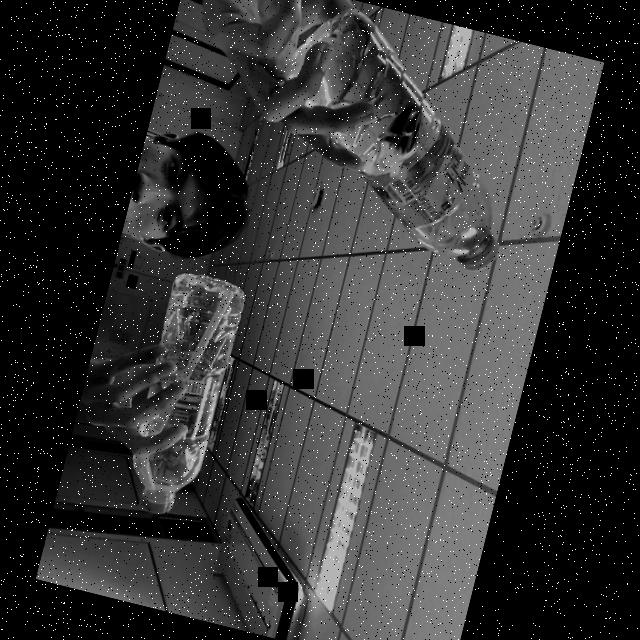plastic_bottle: (246, 0, 551, 282), (116, 264, 256, 528)
plastic_bottle_cap: (453, 223, 505, 276), (135, 478, 181, 518)
straw: (128, 274, 236, 506)
